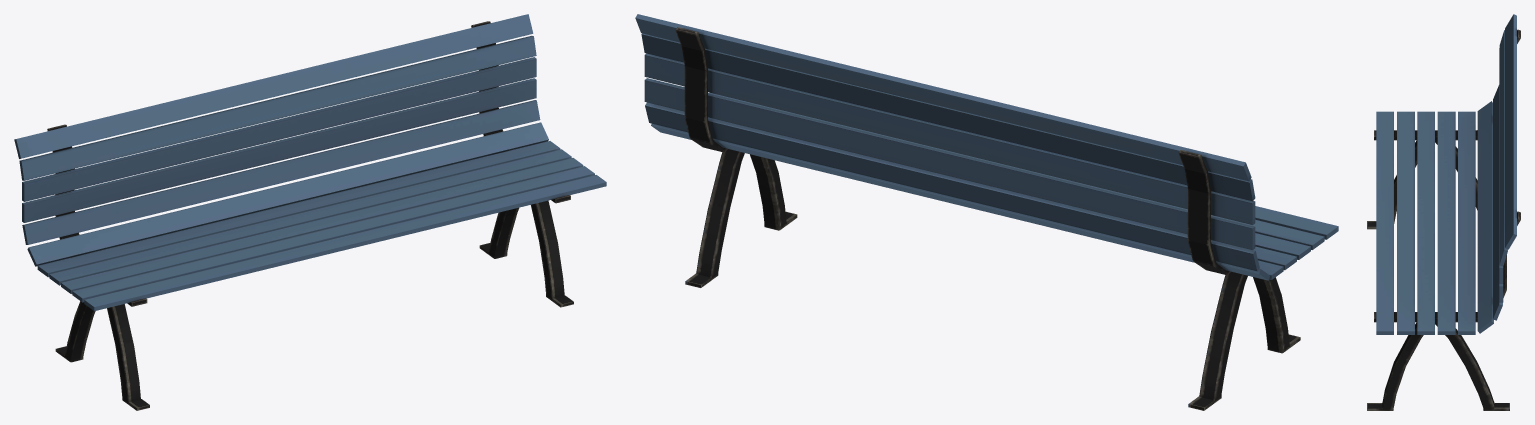
Rendered from bench.fbx.
3 views of the same model, side by side, from view 1: azimuth 30°, elevation 25°; view 2: azimuth 150°, elevation 25°; view 3: azimuth 270°, elevation 25° (orthographic). The views are drawn at different scales.
Parts seen in each view (by area): view 1: Bench; view 2: Bench; view 3: Bench.
Part boxes in pixels (x1,y1,x2,y2): Bench: (14,14,606,410); Bench: (635,14,1338,410); Bench: (1367,14,1520,410).
Size of the model in its own units: 183 by 75.06 by 54.07.
1 material, 1 textured.
